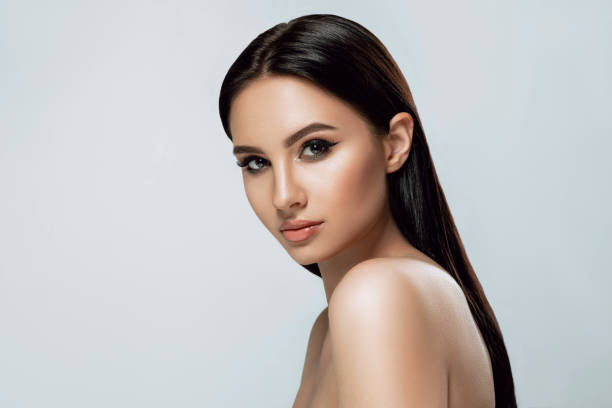Female: (214, 21, 512, 408)
